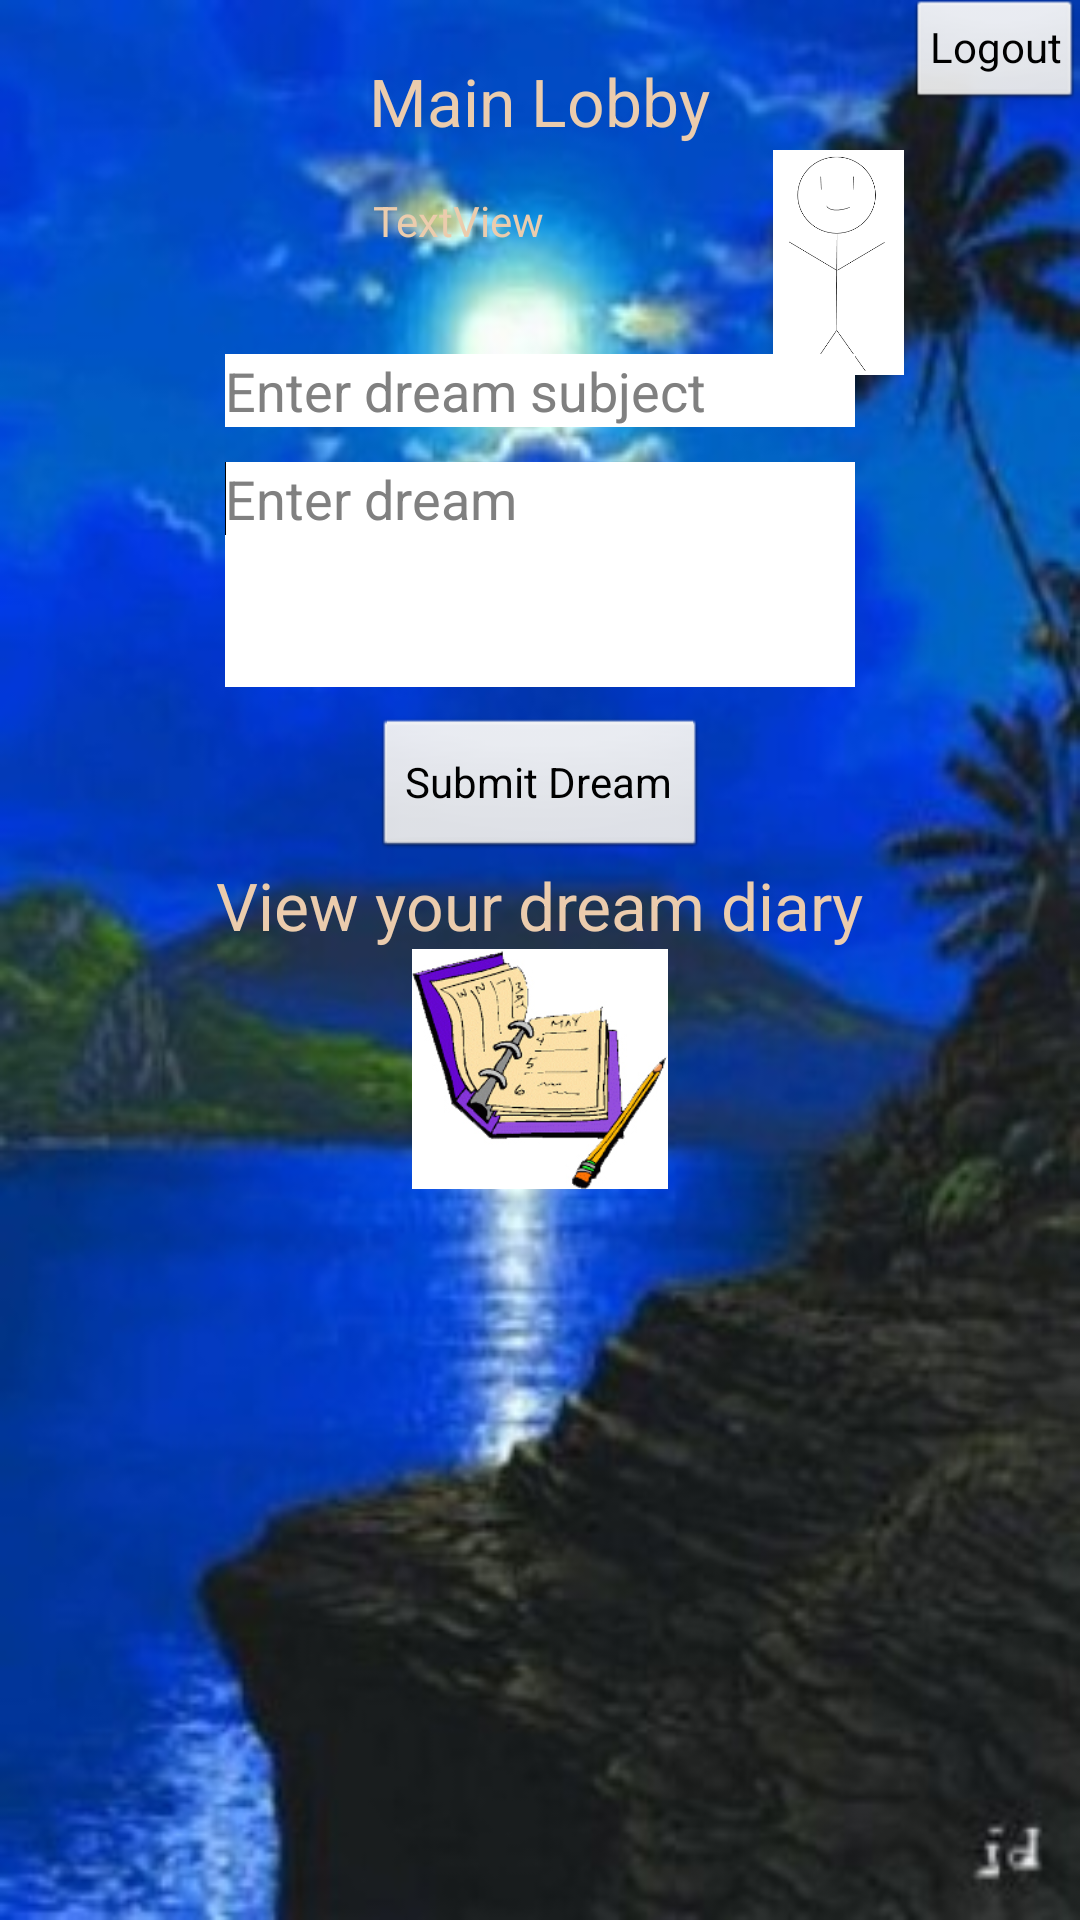

Icon click points for this 1080x1920 phone screenshot, format [x,y]:
book: [540,1069]
stick: [838,262]
